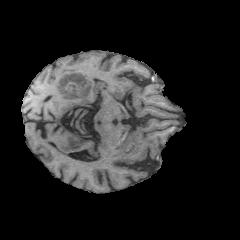glioma: (55, 71, 94, 98)
